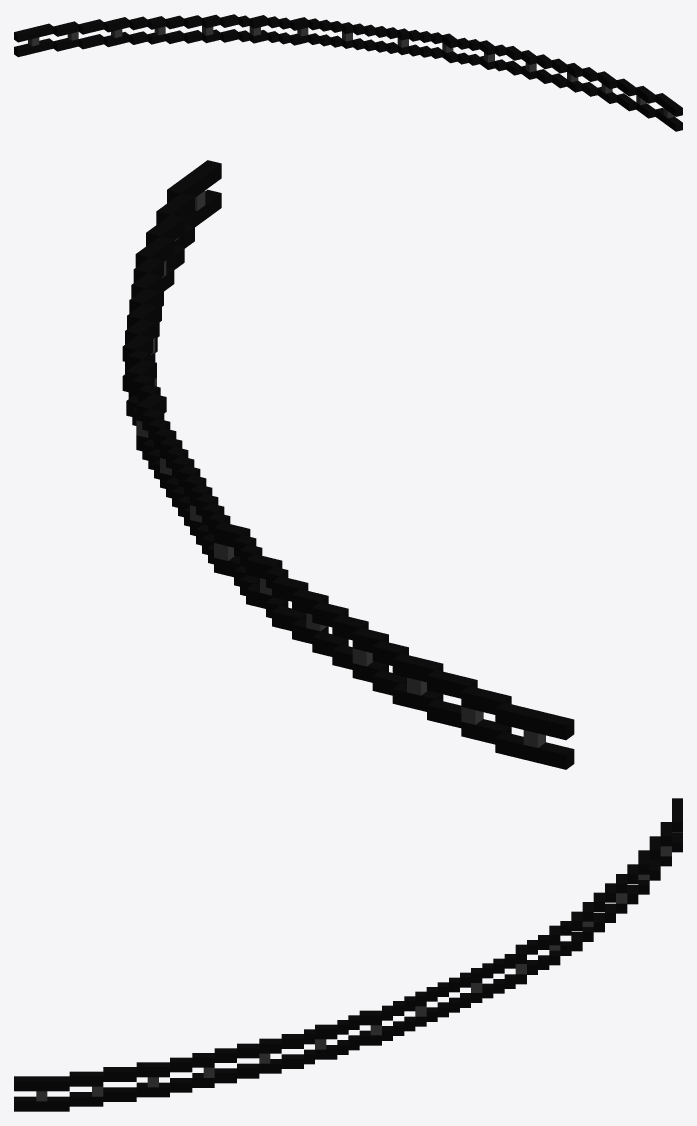
Rendered from 90_Large-7.obj.
3 renders of one model, top to bottom at view 1: azimuth 30°, elevation 25°; view 2: azimuth 150°, elevation 25°; view 3: azimuth 270°, elevation 25°, orthographic. The views are drawn at different scales.
Parts seen in each view (by area): view 1: 90_Large-7; view 2: 90_Large-7; view 3: 90_Large-7.
Boxes of the visible parts, x1,y1,x2,y2 form: 90_Large-7: (14,14,682,131); 90_Large-7: (122,160,574,769); 90_Large-7: (14,798,682,1111).
Bounding box in the file's own units: 60 × 3 × 60.
Materials: 1 (1 with a texture image).
